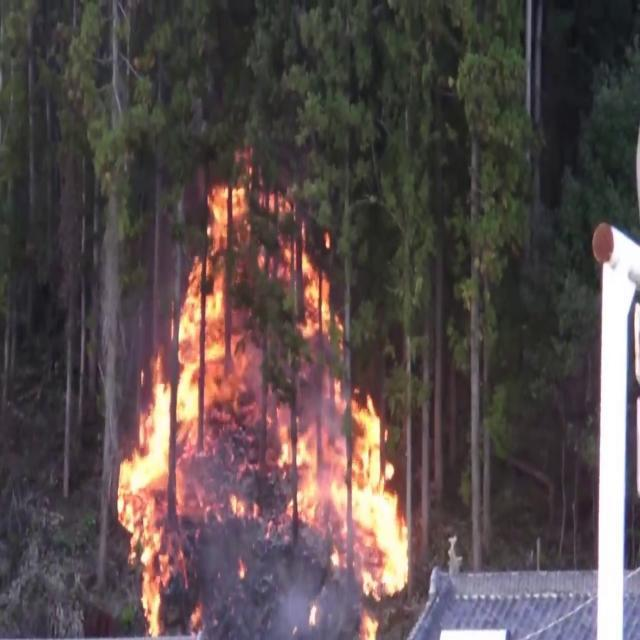Fire: (99, 161, 268, 627), (261, 170, 415, 632)
